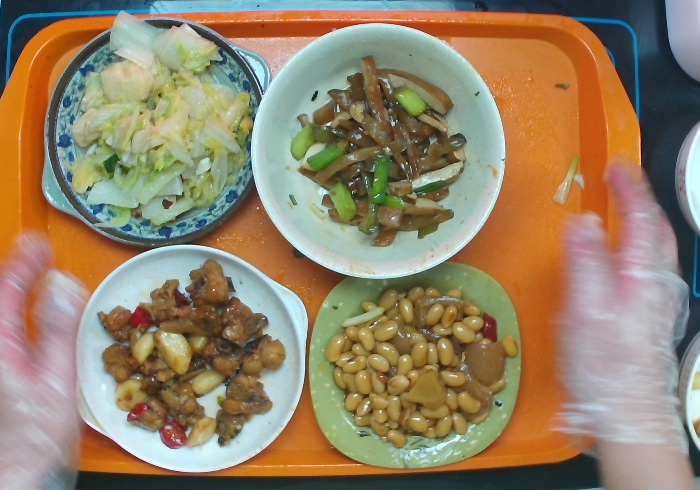NLDX-Bai_Se_Shuang_Er_Die: (68, 239, 313, 474)
NLDX-Bai_Se_Yuan_Wan: (247, 17, 508, 283)
NLDX-Lv_Hua_Fang_Die: (303, 258, 527, 475)
NLDX-Qing_Hua_Shuang_Er_Die: (36, 14, 275, 253)
